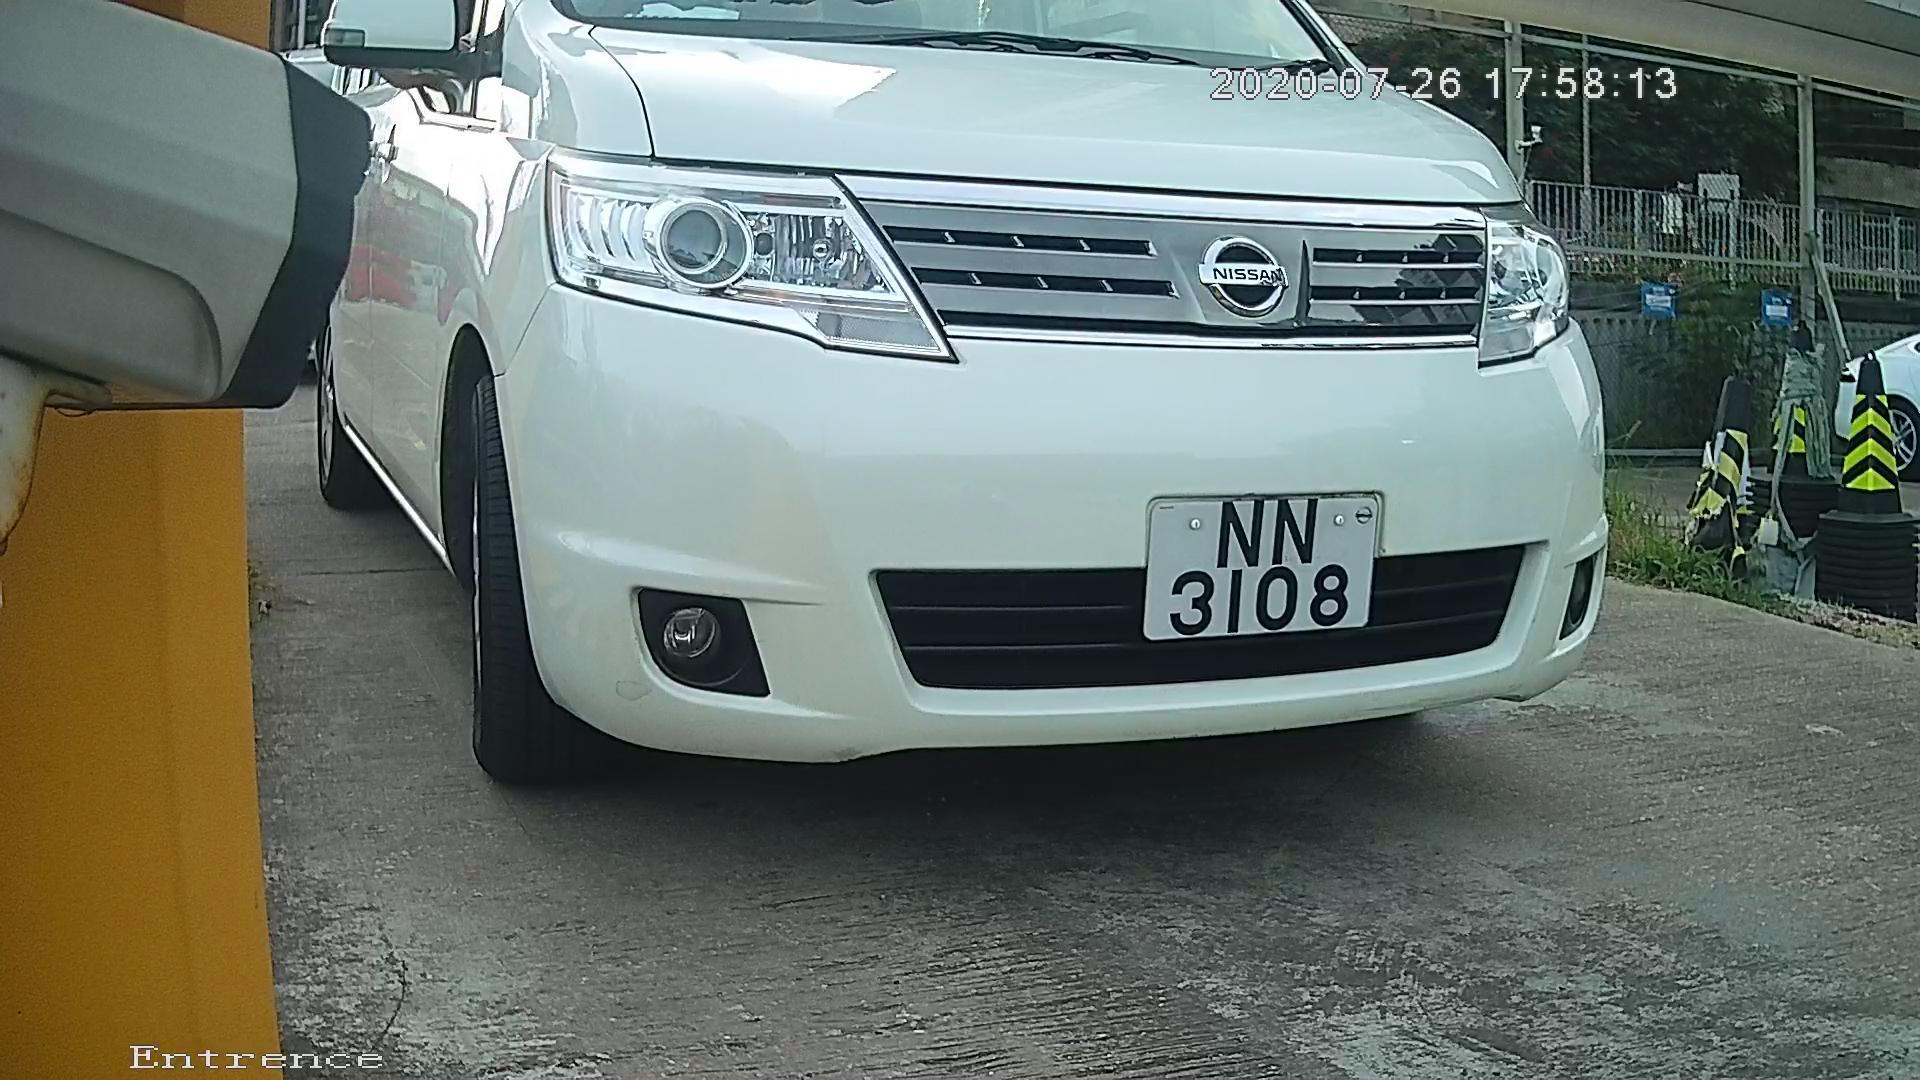License Plate: (1132, 468, 1389, 656)
